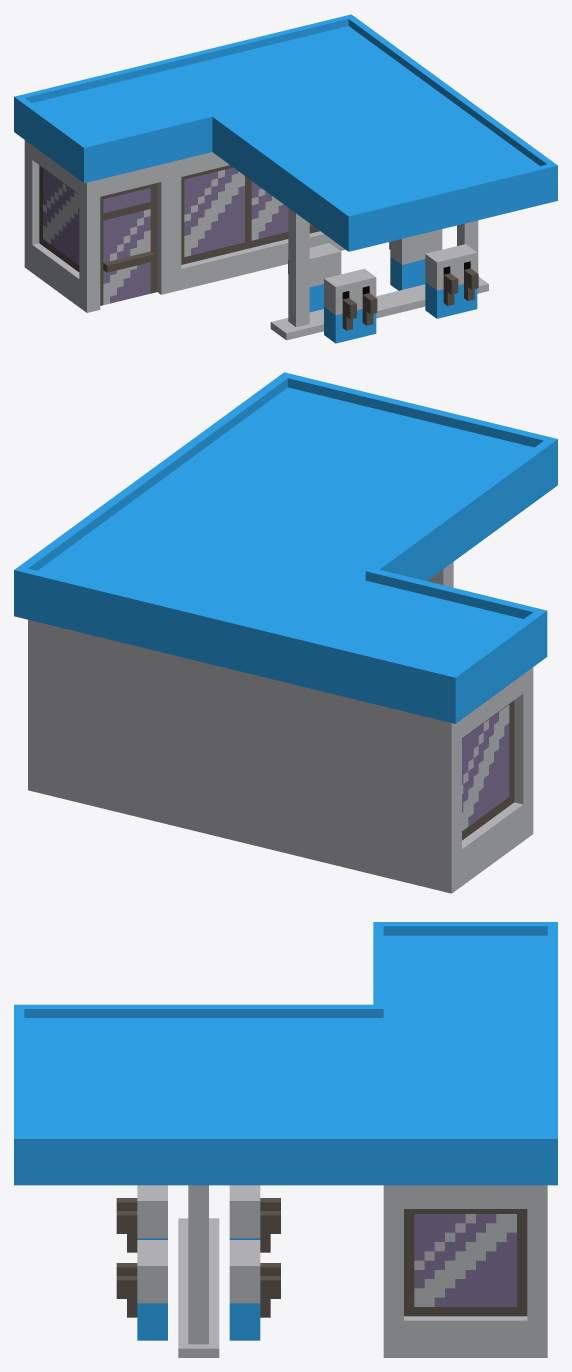
The model's file is gas_station_a_b.obj.
The picture shows the model from 3 angles, top to bottom: view 1: azimuth 30°, elevation 25°; view 2: azimuth 150°, elevation 25°; view 3: azimuth 270°, elevation 25°; orthographic projection. The views are drawn at different scales.
Bounding box in the file's own units: 5 × 2.4 × 5.3.
Materials: 1 (1 with a texture image).
